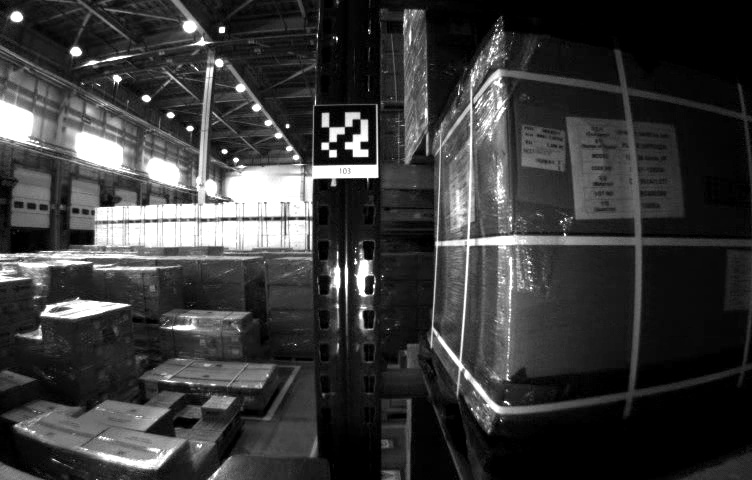True Barcode: (523, 124, 565, 174)
